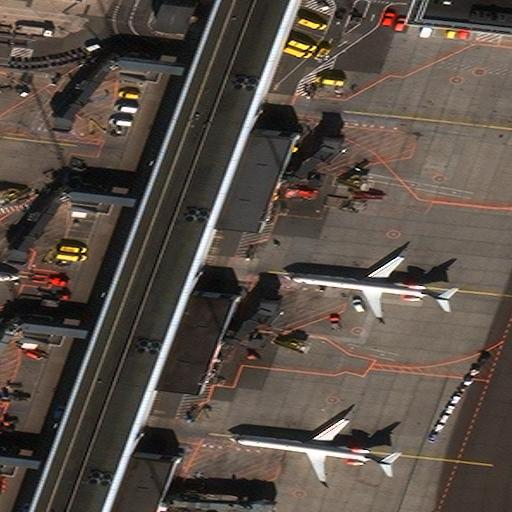Medium Civil Transport: (283, 256, 449, 318), (229, 418, 393, 480)
